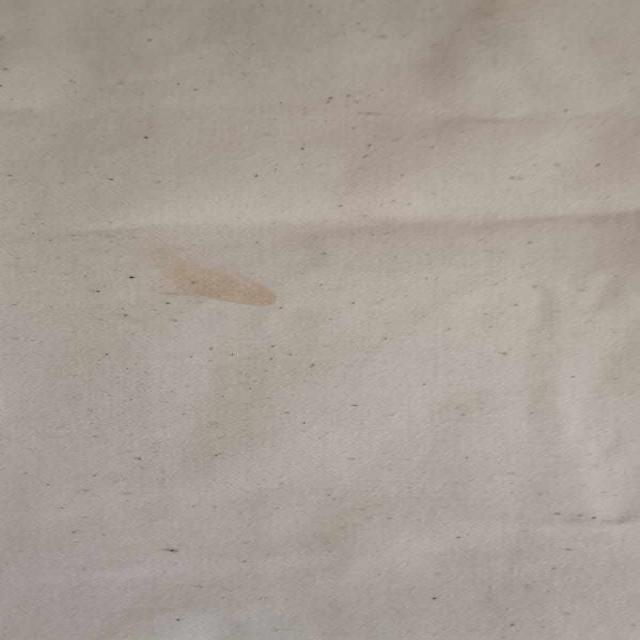taaaches: (153, 242, 299, 320)
